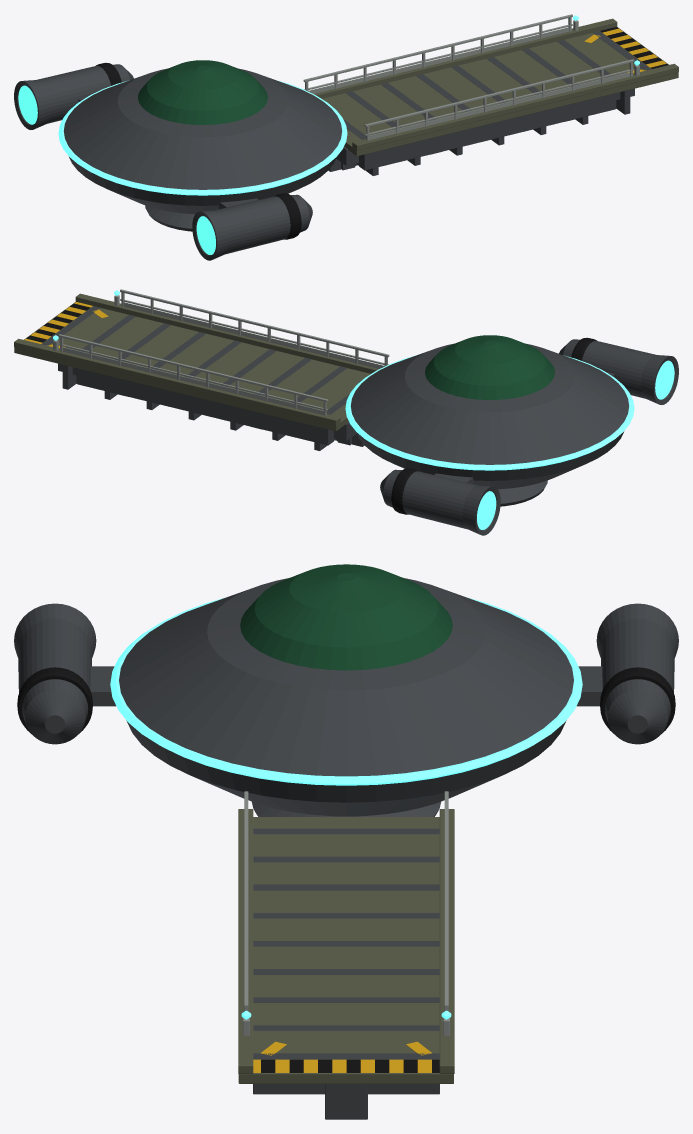
File: dropship-deck.glb
3 renders of one model, top to bottom at view 1: azimuth 30°, elevation 25°; view 2: azimuth 150°, elevation 25°; view 3: azimuth 270°, elevation 25°, orthographic. The views are drawn at different scales.
Parts seen in each view (by area): view 1: Dropship structure, Dropship deck, Dropship railings, Dropship canopy, Dropship reactor lights, Dropship hazard shadow, Dropship hazard marks; view 2: Dropship structure, Dropship deck, Dropship railings, Dropship canopy, Dropship reactor lights, Dropship hazard shadow, Dropship hazard marks; view 3: Dropship structure, Dropship deck, Dropship canopy, Dropship reactor lights, Dropship hazard shadow, Dropship railings, Dropship hazard marks.
Boxes of the visible parts, bbox=[...] form: Dropship structure: bbox=[14, 31, 650, 260]; Dropship deck: bbox=[314, 18, 678, 156]; Dropship railings: bbox=[303, 14, 639, 140]; Dropship canopy: bbox=[138, 60, 267, 124]; Dropship reactor lights: bbox=[18, 15, 639, 254]; Dropship hazard shadow: bbox=[96, 27, 668, 239]; Dropship hazard marks: bbox=[584, 28, 666, 73]; Dropship structure: bbox=[42, 306, 678, 535]; Dropship deck: bbox=[14, 293, 378, 431]; Dropship railings: bbox=[53, 289, 389, 415]; Dropship canopy: bbox=[425, 335, 554, 399]; Dropship reactor lights: bbox=[53, 290, 674, 529]; Dropship hazard shadow: bbox=[26, 303, 596, 514]; Dropship hazard marks: bbox=[24, 302, 108, 348]; Dropship structure: bbox=[14, 578, 678, 1119]; Dropship deck: bbox=[238, 809, 454, 1083]; Dropship canopy: bbox=[240, 564, 452, 670]; Dropship reactor lights: bbox=[110, 597, 582, 1019]; Dropship hazard shadow: bbox=[17, 667, 675, 1072]; Dropship railings: bbox=[243, 791, 449, 1035]; Dropship hazard marks: bbox=[253, 1041, 431, 1072].
Size of the model in its own units: 33.86 by 8 by 21.
